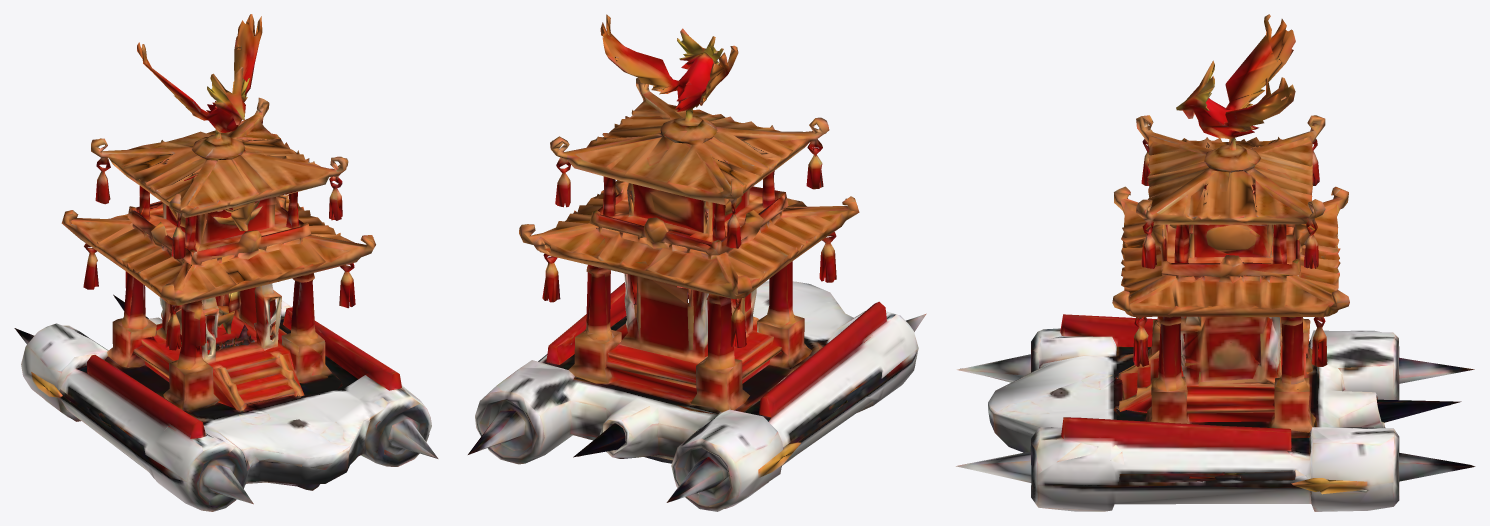
The model's file is prop_kagura_mikoshi.glb.
3 renders of one model, left to right at view 1: azimuth 30°, elevation 25°; view 2: azimuth 150°, elevation 25°; view 3: azimuth 270°, elevation 25°, orthographic. The views are drawn at different scales.
Visible parts, largest first — view 1: geometry_0; view 2: geometry_0; view 3: geometry_0.
Boxes of the visible parts, box(x1,y1,x2,y2) form: geometry_0: box(14, 14, 438, 511); geometry_0: box(468, 14, 926, 511); geometry_0: box(956, 14, 1475, 511).
Bounding box in the file's own units: 0.6295 × 0.8781 × 0.9982.
Materials: 1 (1 with a texture image).
